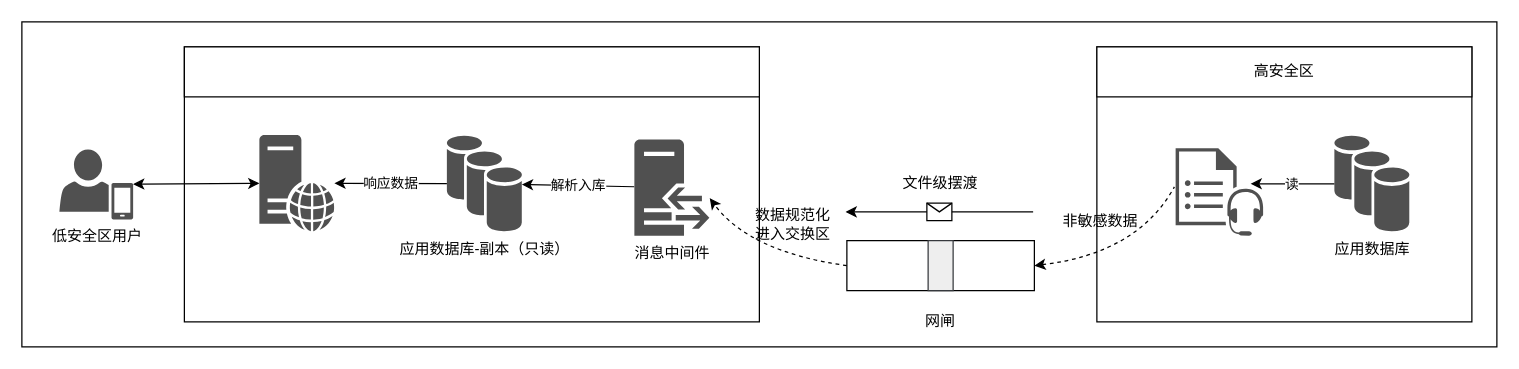
Image size: 1519x369. Some labels were removed from this diagram. The centre of each missing label's shape, as x and y in pixels:
CDC数据库变更监听: the point at 1218,191
低安全区: the point at 471,71
应用服务器: the point at 296,182
